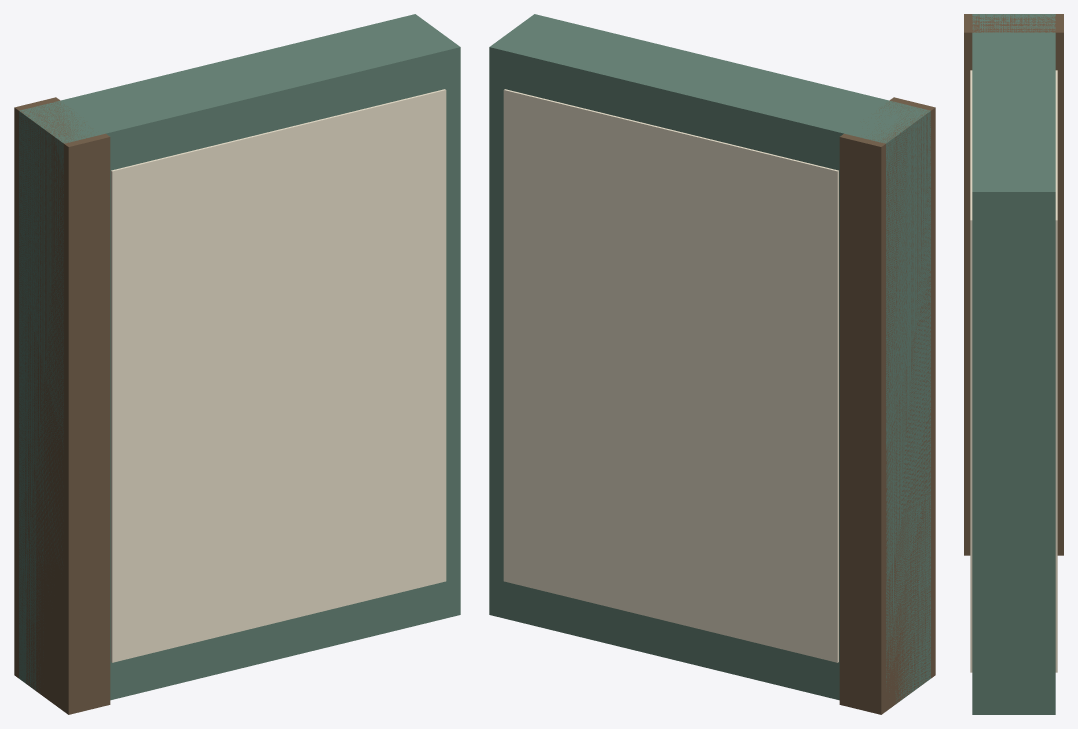
3 views of the same model, side by side, from view 1: azimuth 30°, elevation 25°; view 2: azimuth 150°, elevation 25°; view 3: azimuth 270°, elevation 25° (orthographic). The views are drawn at different scales.
Bounding box in the file's own units: 0.38 × 0.52 × 0.09.
